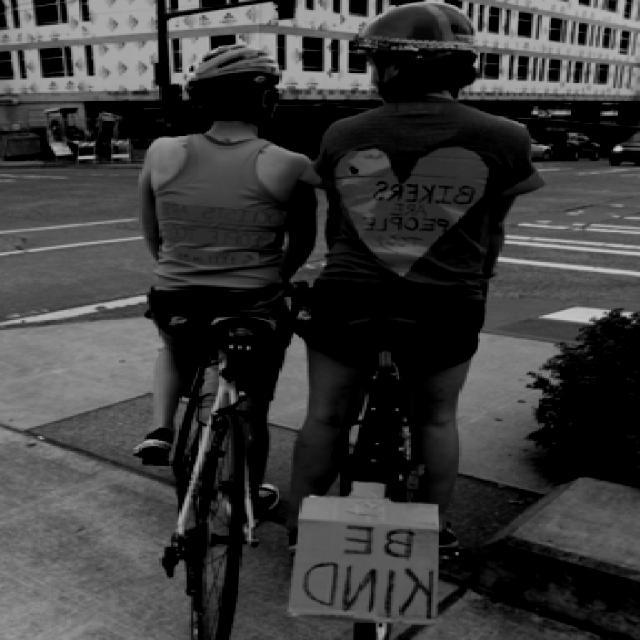Helmet: (356, 0, 480, 101), (182, 40, 280, 124)
